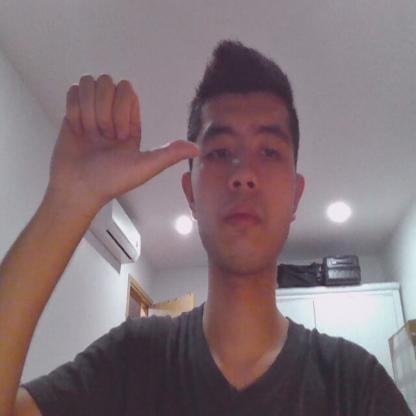left: (47, 72, 201, 207)
